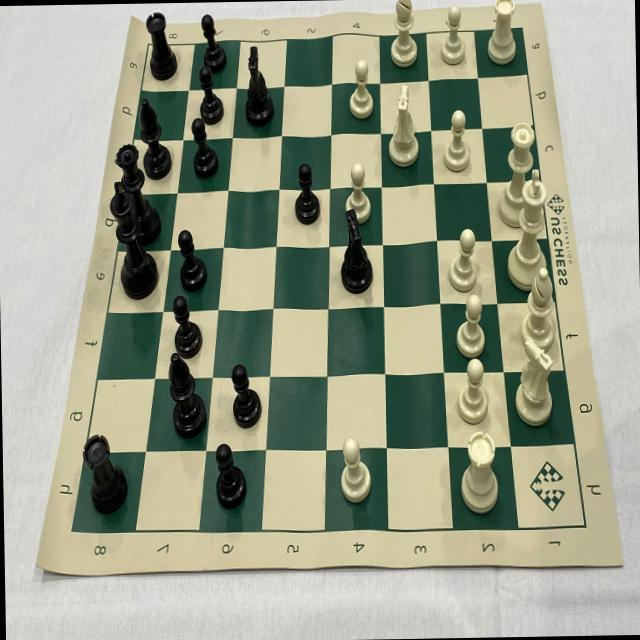black-bishop: (170, 352, 206, 441), (140, 95, 172, 182)
black-king: (111, 180, 158, 300)
black-knight: (338, 210, 376, 294), (242, 42, 274, 126)
black-pawn: (213, 438, 248, 512), (231, 361, 264, 431), (170, 296, 202, 360), (178, 228, 208, 292), (192, 114, 220, 179), (200, 9, 228, 72), (294, 160, 320, 227), (198, 69, 224, 123)
black-queen: (114, 142, 160, 242)
white-bishop: (518, 264, 558, 354), (387, 0, 420, 69)
white-king: (504, 166, 553, 292)
white-knight: (510, 336, 557, 426), (386, 82, 422, 168)
white-pawn: (454, 357, 492, 425), (338, 436, 373, 505), (447, 226, 478, 294), (455, 292, 486, 356), (442, 106, 472, 172), (438, 3, 468, 69), (344, 162, 373, 224), (347, 60, 376, 120)
white-queen: (495, 120, 543, 228)
white-rook: (82, 428, 130, 518), (458, 429, 502, 515), (145, 8, 177, 84), (485, 0, 520, 65)
